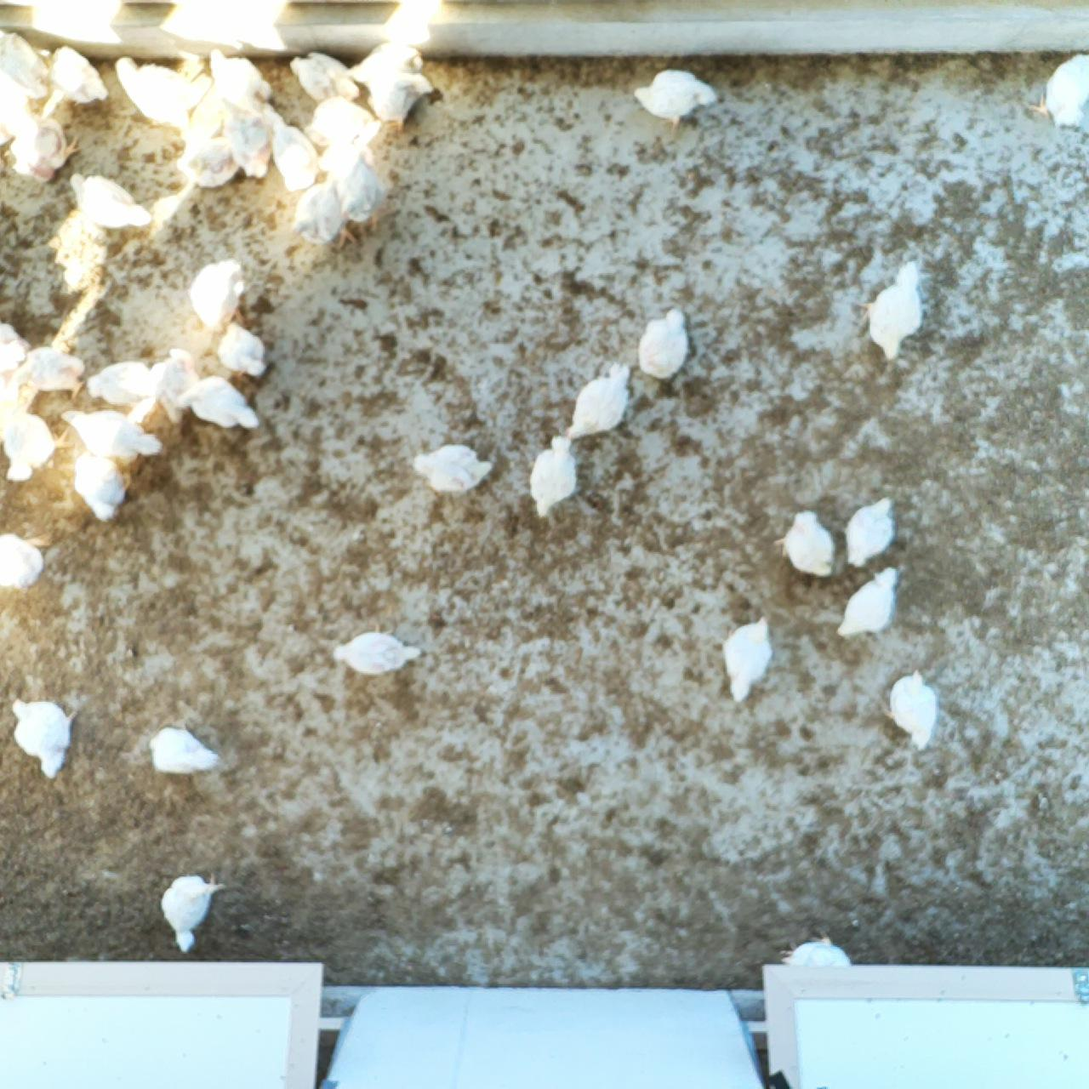chicken: (862, 259, 932, 366), (8, 690, 84, 783), (56, 405, 168, 465), (156, 868, 227, 958), (111, 53, 194, 128), (837, 559, 906, 649), (168, 369, 259, 437), (565, 358, 637, 443), (630, 64, 721, 131), (523, 430, 590, 518), (717, 611, 778, 707), (406, 438, 500, 499), (0, 401, 71, 480), (880, 665, 942, 755), (769, 505, 840, 583), (71, 442, 133, 529), (7, 115, 83, 185), (835, 492, 898, 576), (68, 172, 155, 232), (330, 626, 424, 681), (293, 176, 359, 252), (633, 302, 696, 381), (265, 106, 319, 197), (329, 145, 383, 234), (362, 65, 434, 129), (1029, 54, 1089, 128), (145, 718, 221, 776), (6, 345, 87, 399), (187, 254, 245, 329), (304, 95, 386, 148), (38, 46, 111, 104), (0, 525, 55, 599), (208, 50, 271, 114), (85, 359, 166, 408), (178, 130, 245, 189), (223, 104, 272, 182), (152, 343, 199, 424), (286, 51, 359, 103), (0, 23, 51, 97), (343, 40, 426, 85), (775, 934, 855, 979), (214, 316, 265, 380), (0, 74, 37, 146), (0, 316, 31, 371)
